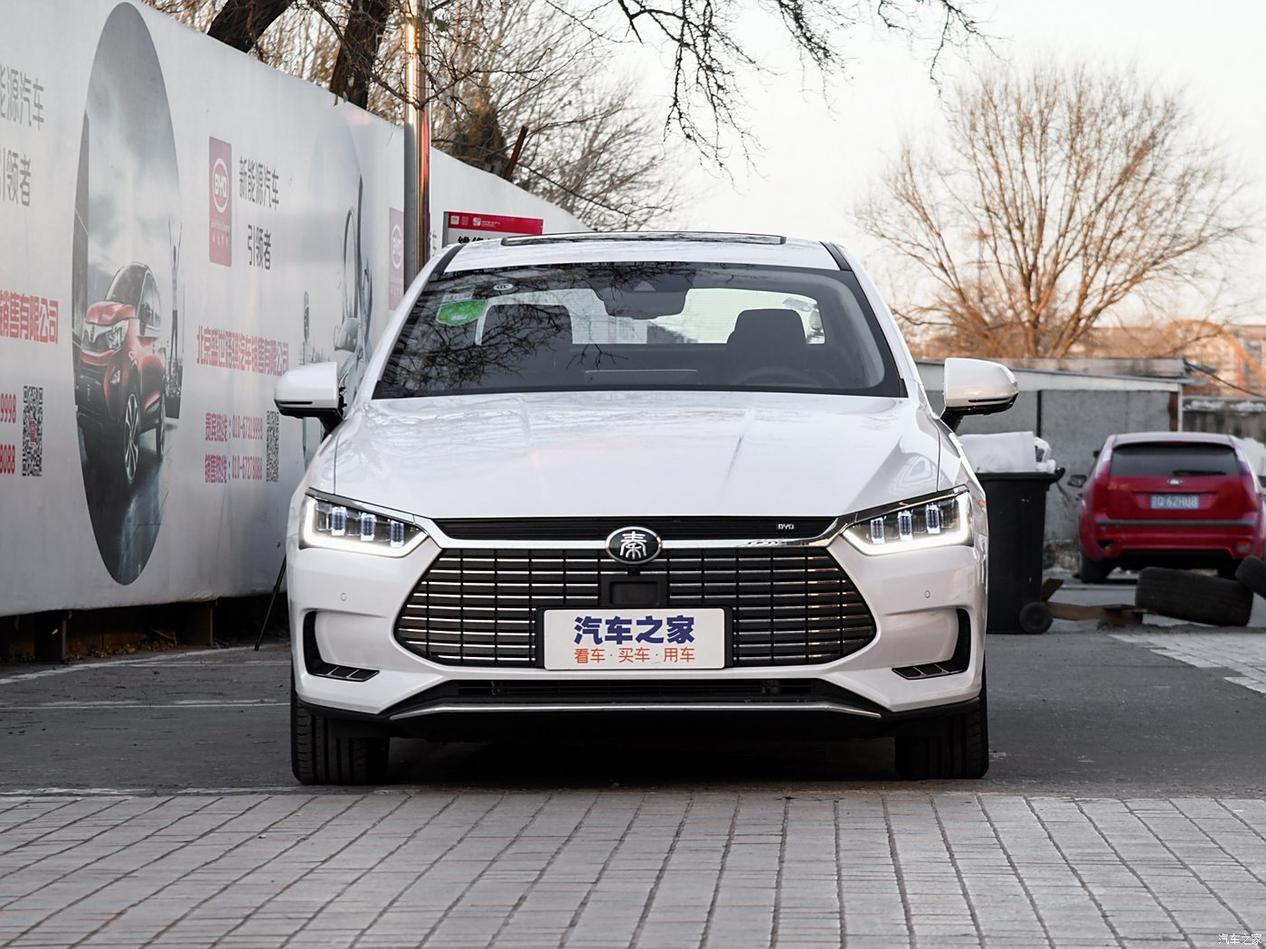BYD Qin: (606, 527, 661, 563)
